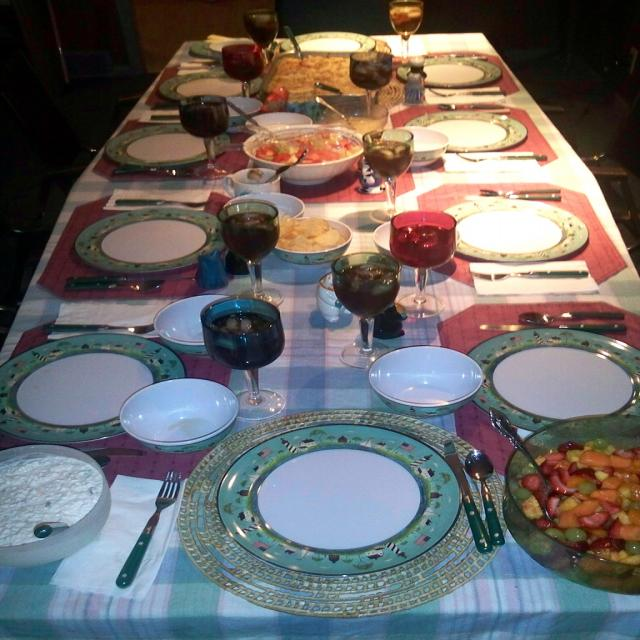non-organic waste: (201, 408, 508, 599), (465, 322, 640, 423), (438, 200, 610, 275)
